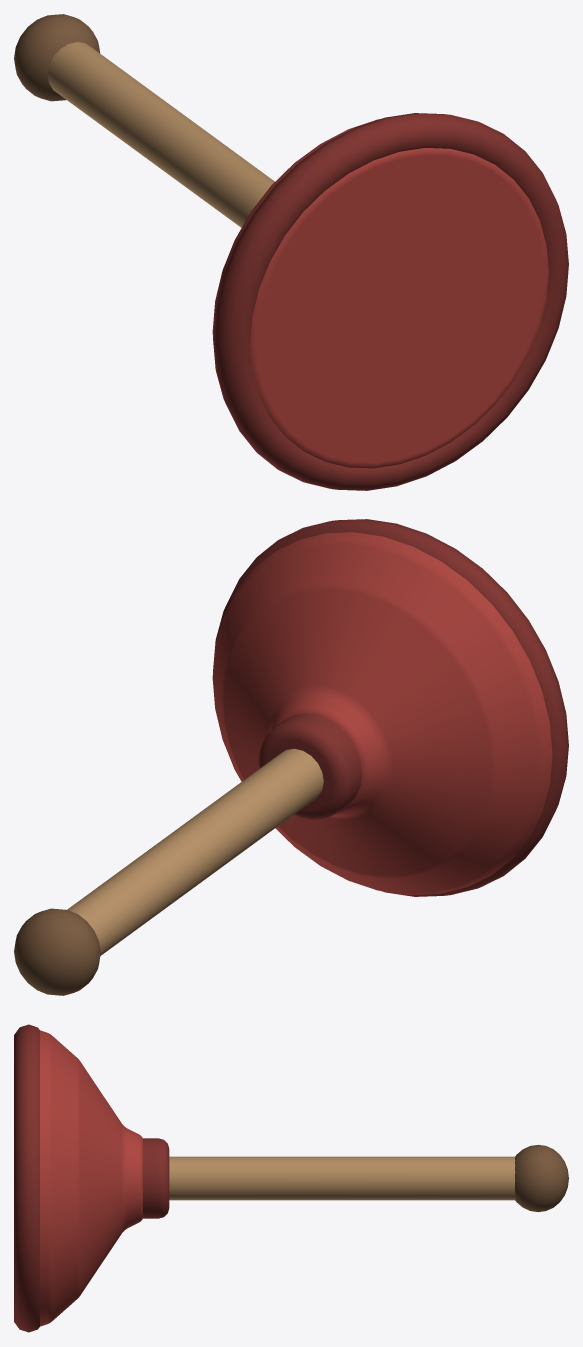
Rendered from grap_plunger.glb.
3 views of the same model, one above another, from view 1: azimuth 30°, elevation 25°; view 2: azimuth 150°, elevation 25°; view 3: azimuth 270°, elevation 25° (orthographic). The views are drawn at different scales.
Parts seen in each view (by area): view 1: plunger_cup__pa8413b, plunger_rim__p7c302c, plunger_handle__pb28c62, plunger_knob__p74553b; view 2: plunger_cup__pa8413b, plunger_handle__pb28c62, plunger_rim__p7c302c, plunger_knob__p74553b; view 3: plunger_cup__pa8413b, plunger_handle__pb28c62, plunger_rim__p7c302c, plunger_knob__p74553b.
Part boxes in pixels (x1,y1,x2,y2): plunger_cup__pa8413b: [212, 119, 548, 468]; plunger_rim__p7c302c: [213, 113, 568, 490]; plunger_handle__pb28c62: [47, 42, 274, 227]; plunger_knob__p74553b: [14, 14, 100, 101]; plunger_cup__pa8413b: [212, 532, 552, 894]; plunger_handle__pb28c62: [67, 748, 323, 955]; plunger_rim__p7c302c: [213, 519, 568, 896]; plunger_knob__p74553b: [14, 908, 100, 995]; plunger_cup__pa8413b: [40, 1030, 142, 1326]; plunger_handle__pb28c62: [169, 1156, 515, 1200]; plunger_rim__p7c302c: [14, 1024, 169, 1332]; plunger_knob__p74553b: [515, 1144, 568, 1212].
Bounding box in the file's own units: 0.956 × 0.956 × 1.72.
